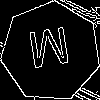M: (26, 26, 74, 78)
